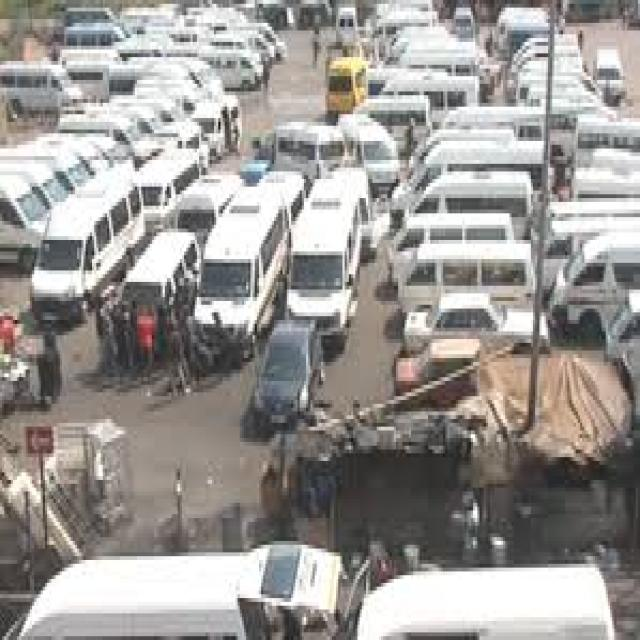MiniBus taxi: (32, 221, 88, 324)
Passenger Car: (244, 320, 328, 438)
